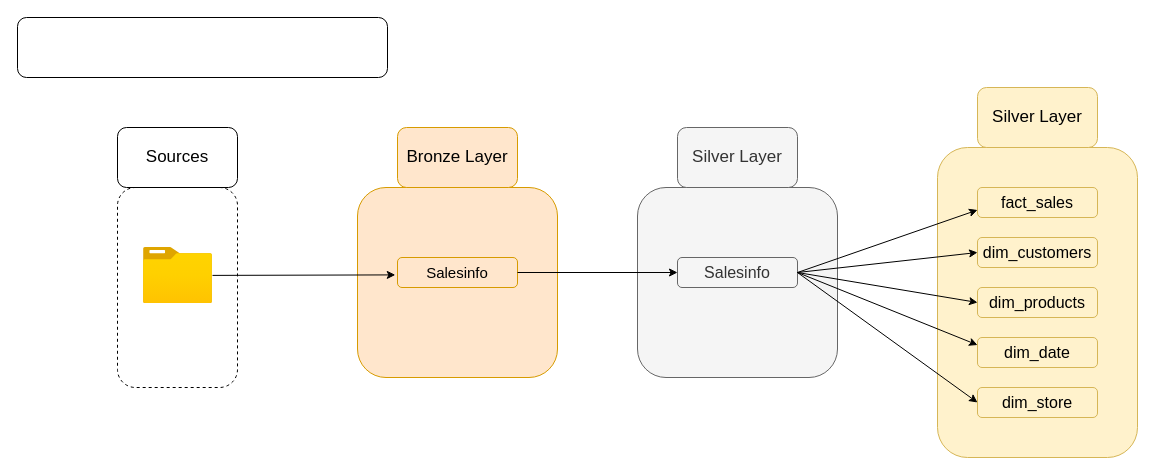
This 1155x475 diagram has some shape labels left out. Here are the shapes that lost their labels. From the top down, the centre of each, then its label:
At (x=202, y=47): "Data Flow Diagram".
At (x=177, y=275): "Sales CSV".
